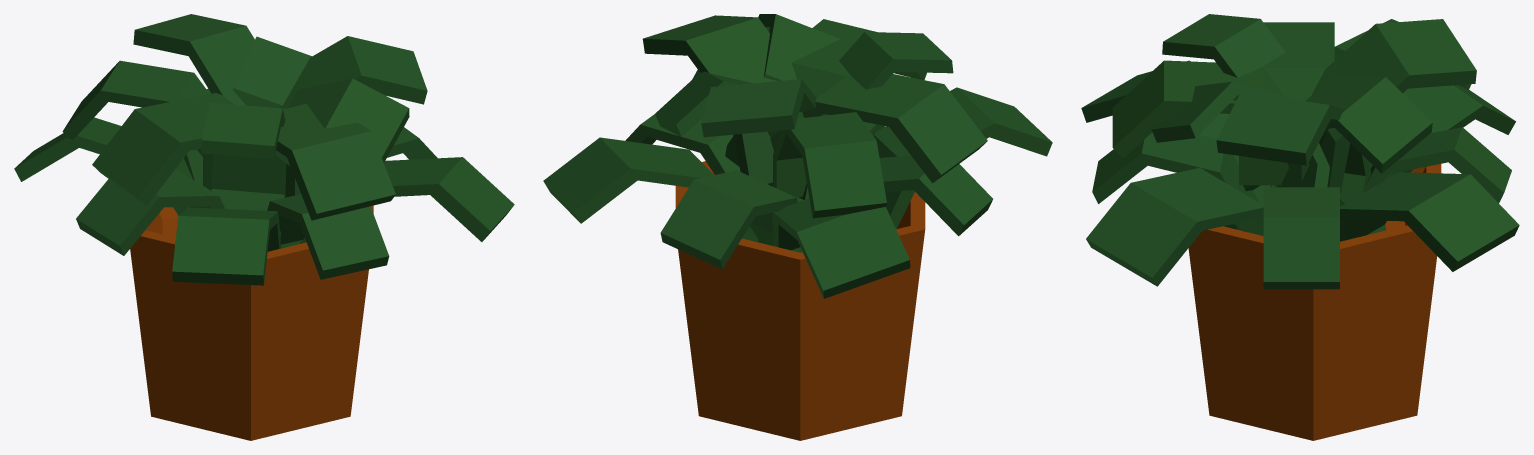
File: kukka1.FBX
The picture shows the model from 3 angles, left to right: view 1: azimuth 30°, elevation 25°; view 2: azimuth 150°, elevation 25°; view 3: azimuth 270°, elevation 25°; orthographic projection. The views are drawn at different scales.
Parts seen in each view (by area): view 1: kukka1; view 2: kukka1; view 3: kukka1.
Part boxes in pixels (x1,y1,x2,y2): kukka1: (14, 14, 514, 440); kukka1: (543, 14, 1052, 440); kukka1: (1081, 14, 1519, 440).
Size of the model in its own units: 123 by 110 by 125.
